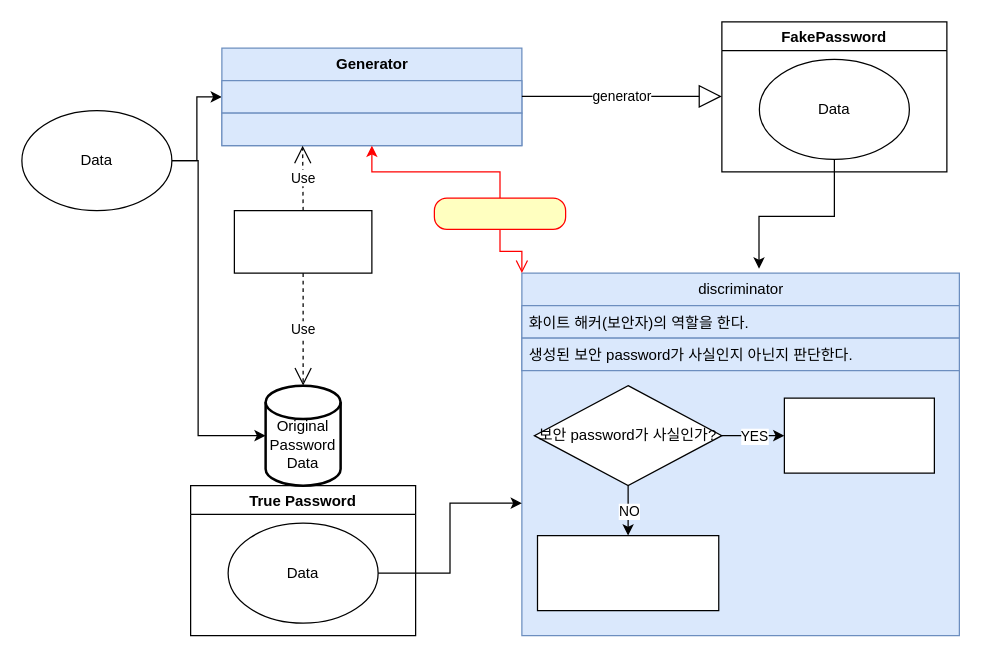
Image size: 981x658. Some labels were removed from this diagram. The shapes that lost their labels are listed below. From the top down, each one's centre as x and y in pixels, then its label:
the point at 371,96: 블랙해커의 역할을 한다.
the point at 371,129: 거짓의 보안 password를 생성한다.
the point at 499,213: 상호경쟁
the point at 302,241: Original_password hint
the point at 858,435: 보안을 해제한다.
the point at 627,572: 보안을 해제하지 않는다.
